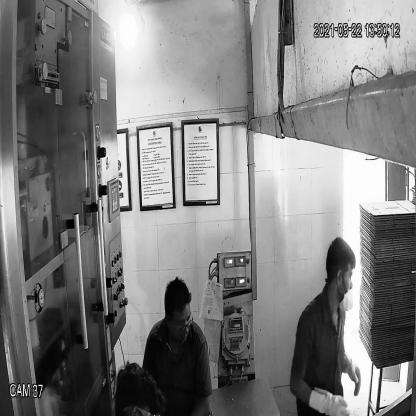goggles: (165, 310, 195, 338)
